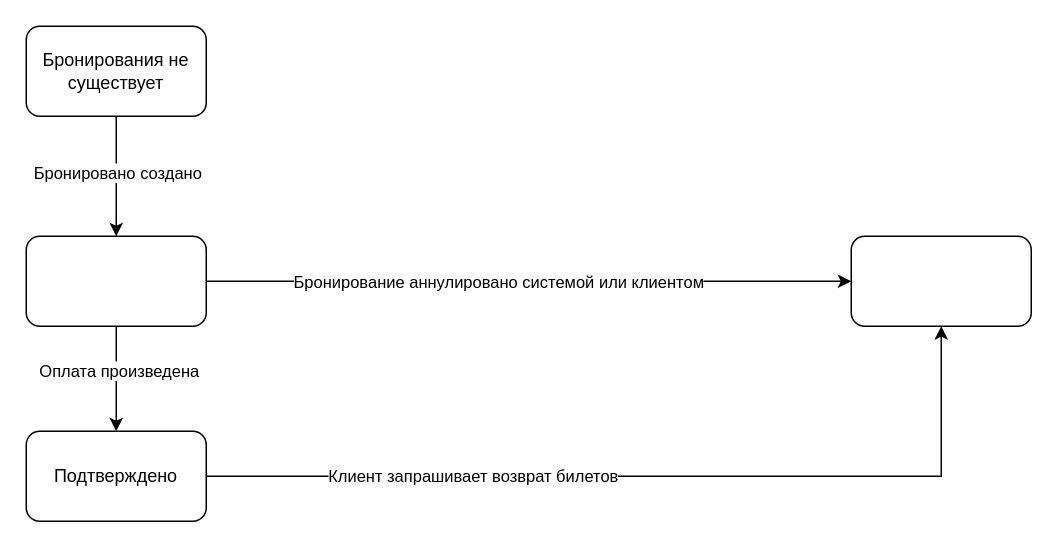
This 1058x548 diagram has some shape labels left out. The shapes that lost their labels are listed below. From the top down, each one's centre as x and y in pixels, then its label:
(x=115, y=280): Ожидание
(x=940, y=280): Отменено
